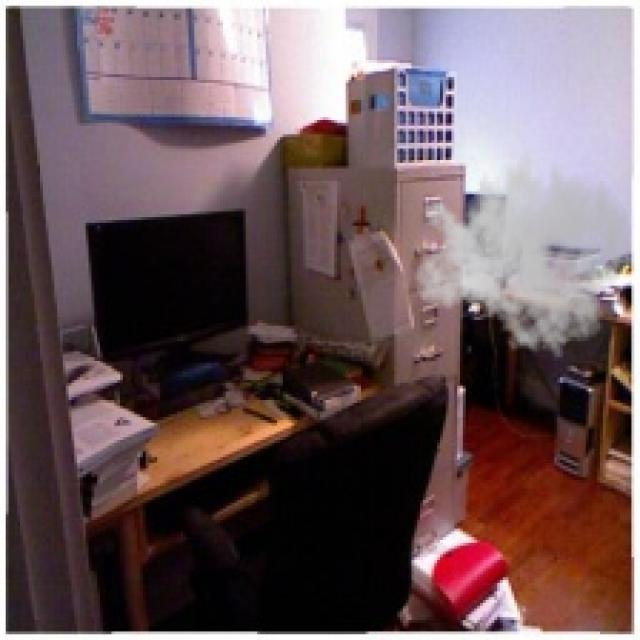smoke: (414, 137, 634, 360)
